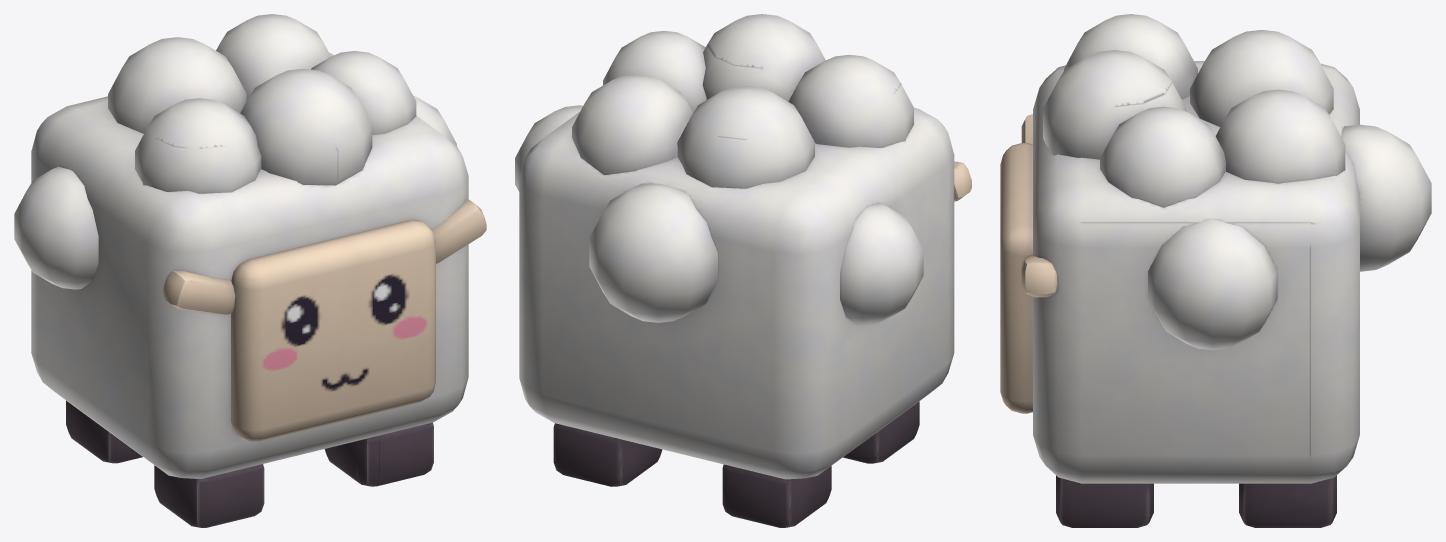
File: Sheep.fbx
3 views of the same model, side by side, from view 1: azimuth 30°, elevation 25°; view 2: azimuth 150°, elevation 25°; view 3: azimuth 270°, elevation 25° (orthographic). The views are drawn at different scales.
Parts seen in each view (by area): view 1: Sheep; view 2: Sheep; view 3: Sheep.
Part boxes in pixels (bbox=[...]): Sheep: bbox=[14, 14, 486, 527]; Sheep: bbox=[515, 14, 971, 527]; Sheep: bbox=[1000, 14, 1431, 527].
Bounding box in the file's own units: 300 × 285 × 264.
Materials: 1 (1 with a texture image).
